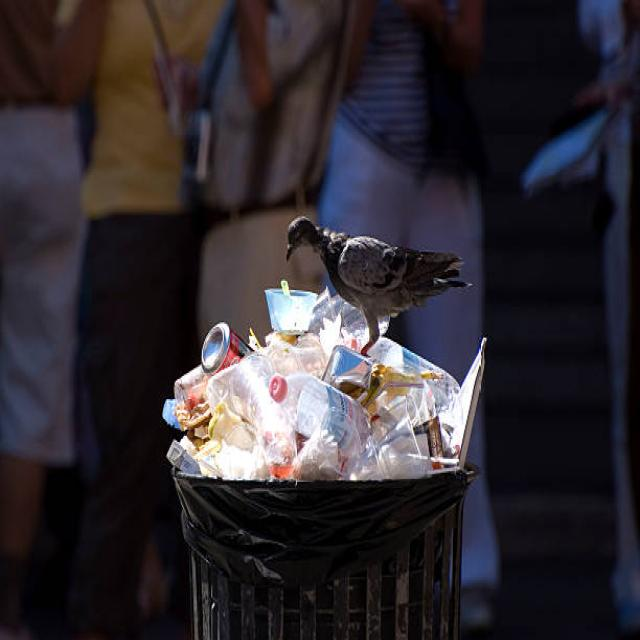trash: (155, 233, 485, 511)
